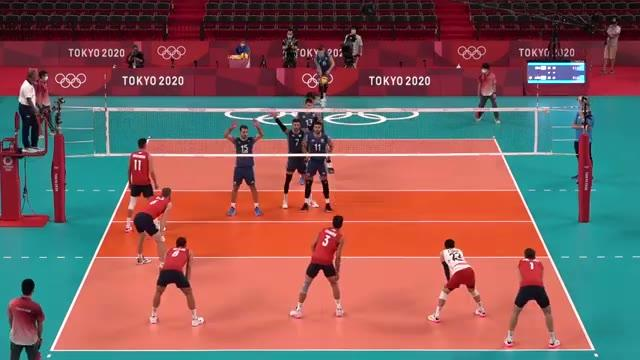ball: (321, 74, 331, 85)
